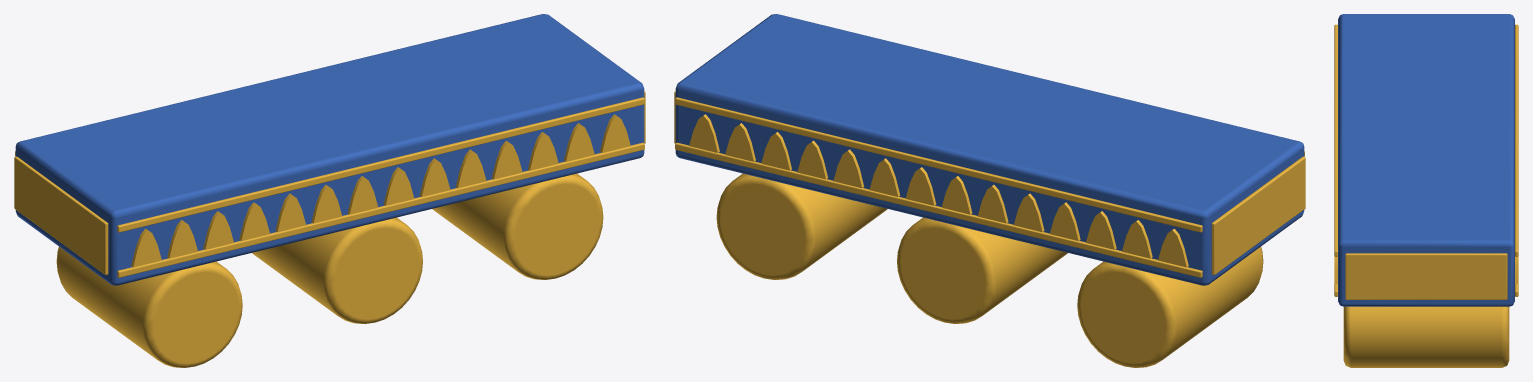
File: K_ElevatorDeck.fbx
3 views of the same model, side by side, from view 1: azimuth 30°, elevation 25°; view 2: azimuth 150°, elevation 25°; view 3: azimuth 270°, elevation 25° (orthographic). The views are drawn at different scales.
Parts seen in each view (by area): view 1: K_ElevatorDeck; view 2: K_ElevatorDeck; view 3: K_ElevatorDeck.
Boxes of the visible parts, x1,y1,x2,y2 form: K_ElevatorDeck: (14,14,645,367); K_ElevatorDeck: (674,14,1305,367); K_ElevatorDeck: (1334,14,1518,367).
Bounding box in the file's own units: 3 × 0.95 × 1.
